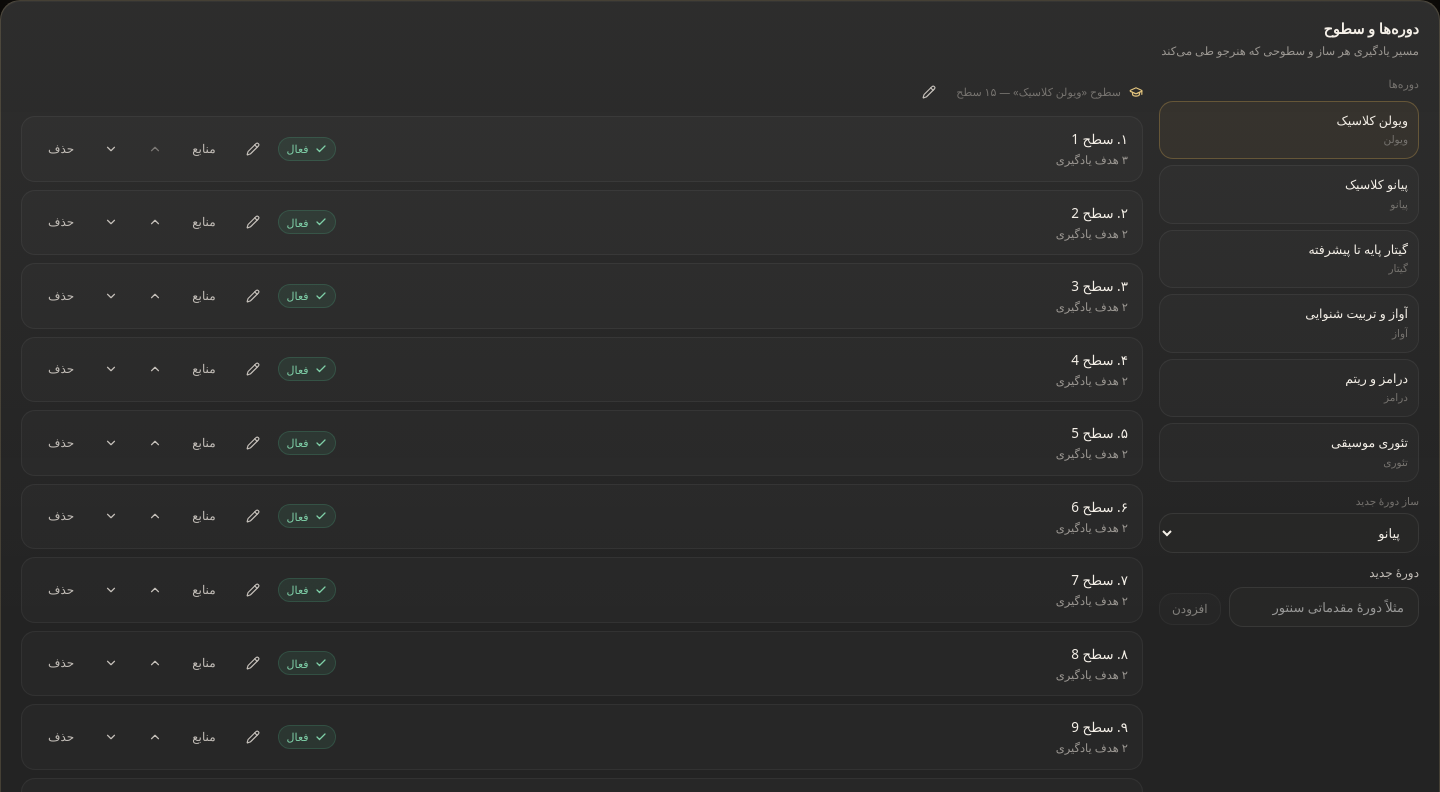
Test case: programs › switches the level list when another program is selected
The image size is (1440, 792).
Click the text "پیانو کلاسیک" at (1376, 185), box x1=1345 y1=176 x2=1408 y2=193
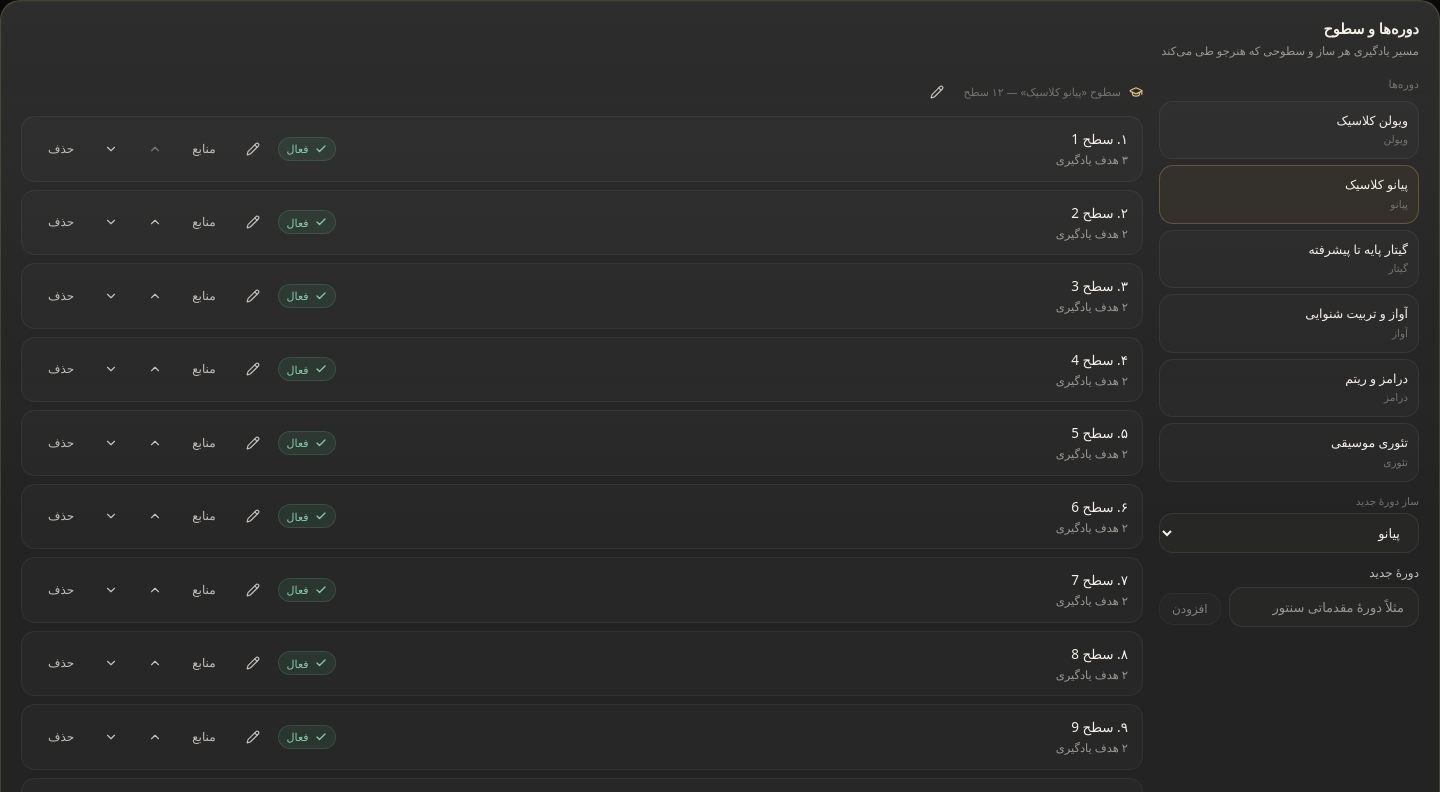
Result: the heading "سطوح «پیانو کلاسیک» — ۱۲ سطح" is shown at x1=964 y1=84 x2=1121 y2=100
